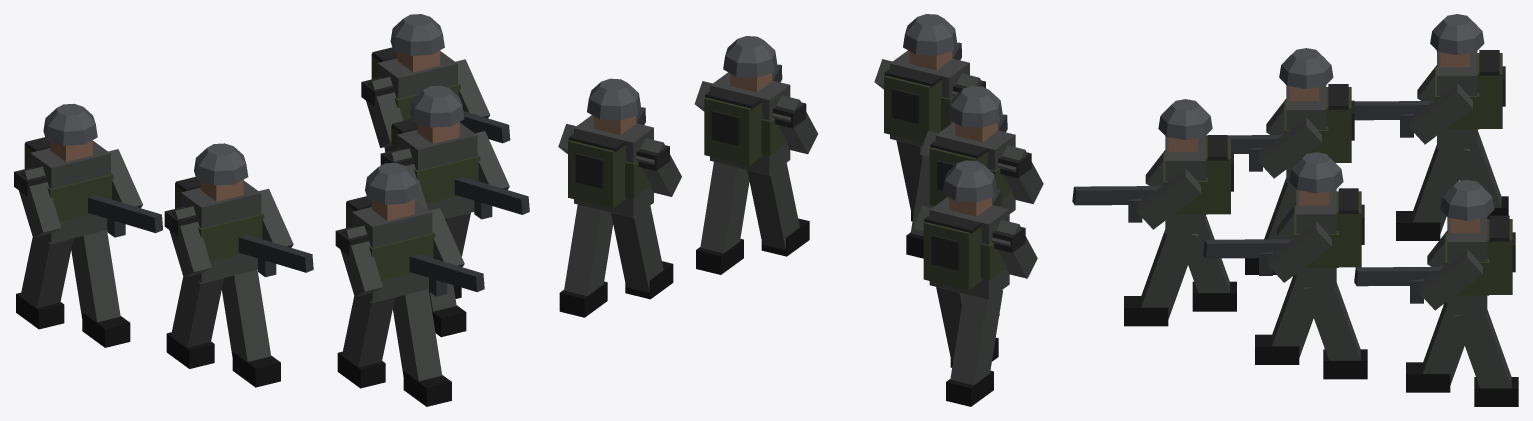
File: infantry.glb
3 views of the same model, side by side, from view 1: azimuth 30°, elevation 25°; view 2: azimuth 150°, elevation 25°; view 3: azimuth 270°, elevation 25° (orthographic). The views are drawn at different scales.
Parts seen in each view (by area): view 1: body; view 2: body; view 3: body.
Boxes of the visible parts, x1,y1,x2,y2 form: body: (14, 14, 529, 406); body: (558, 14, 1043, 406); body: (1072, 14, 1518, 406).
Bounding box in the file's own units: 4.98 × 2.28 × 4.44.
